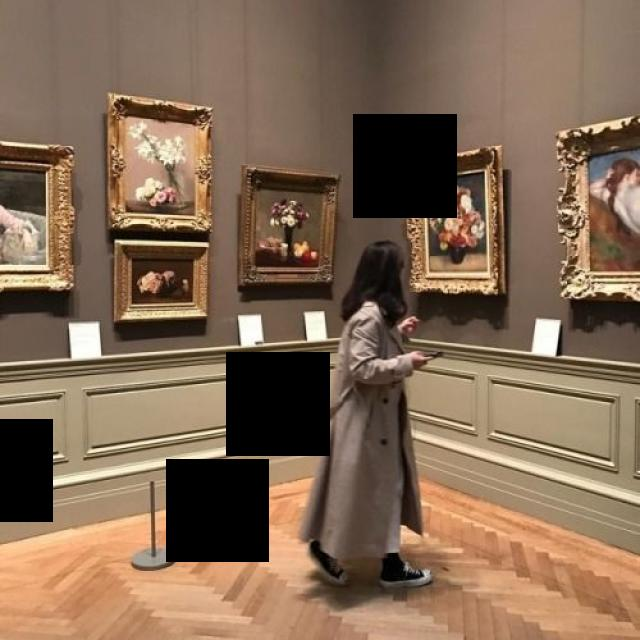Tablo: (123, 113, 198, 220), (424, 169, 490, 276), (253, 186, 326, 269), (0, 164, 49, 268), (129, 256, 195, 305)
